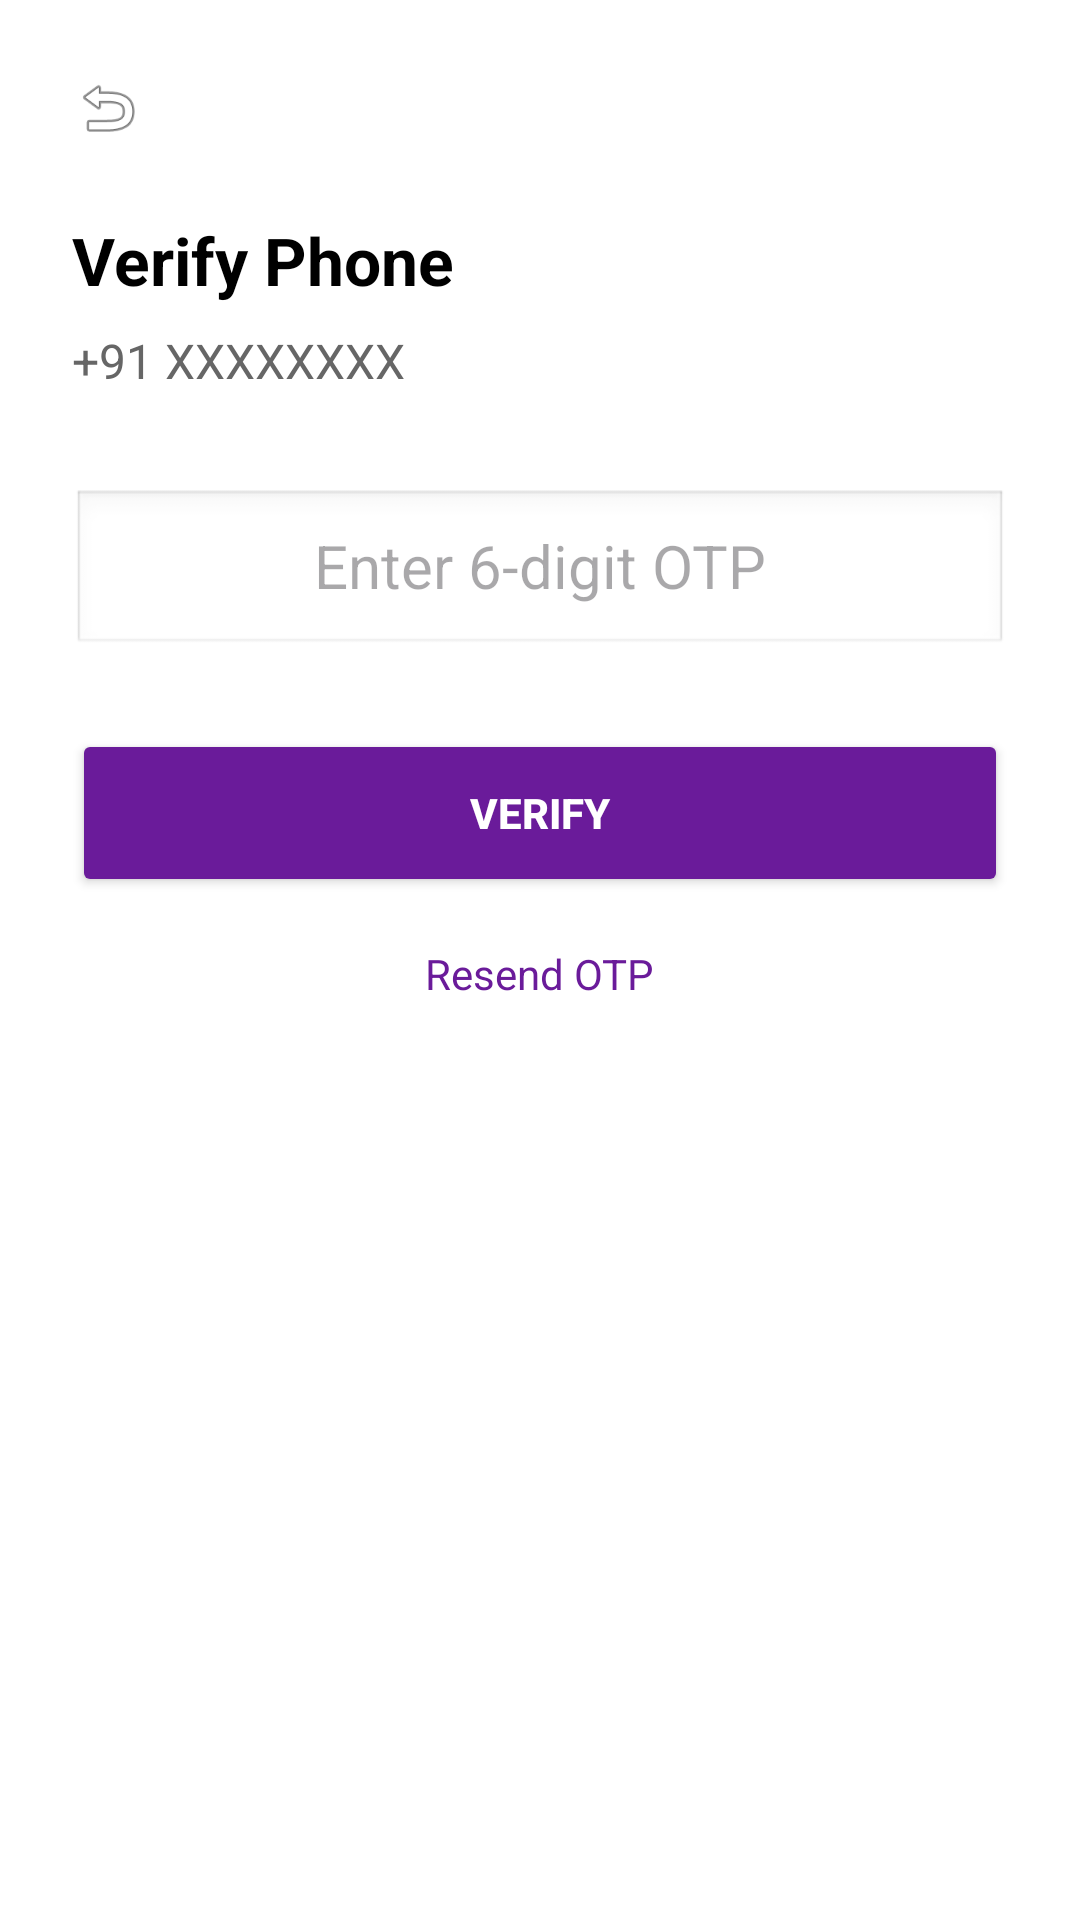

Named icons in this screenshot (1080px x 1920px) and their centers, [x,y]:
revert: [109,108]
